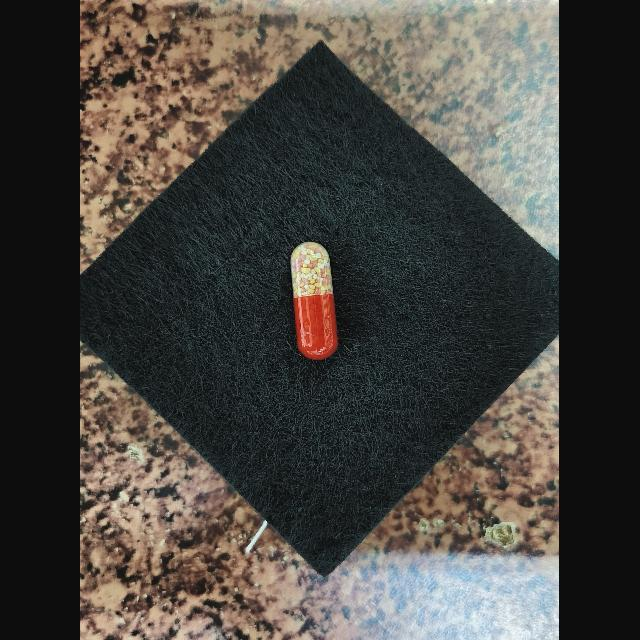Intact Capsule: (291, 241, 338, 360)
